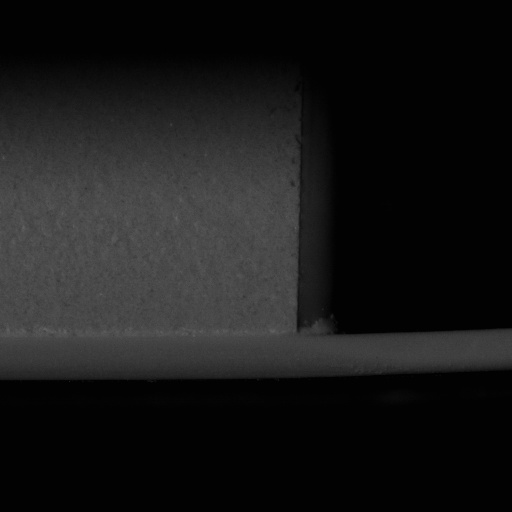changdai: (292, 327, 511, 377)
